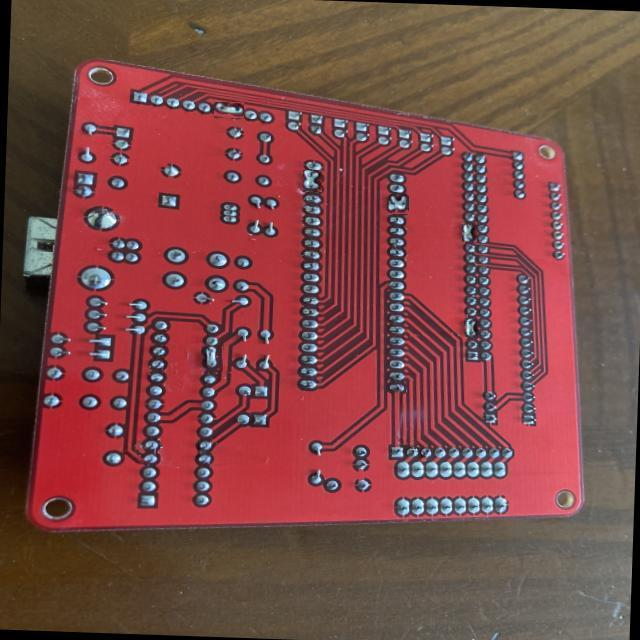damged: (201, 346, 223, 371), (214, 102, 244, 118), (388, 193, 409, 215), (303, 170, 322, 192), (462, 222, 477, 242), (465, 318, 479, 338)
